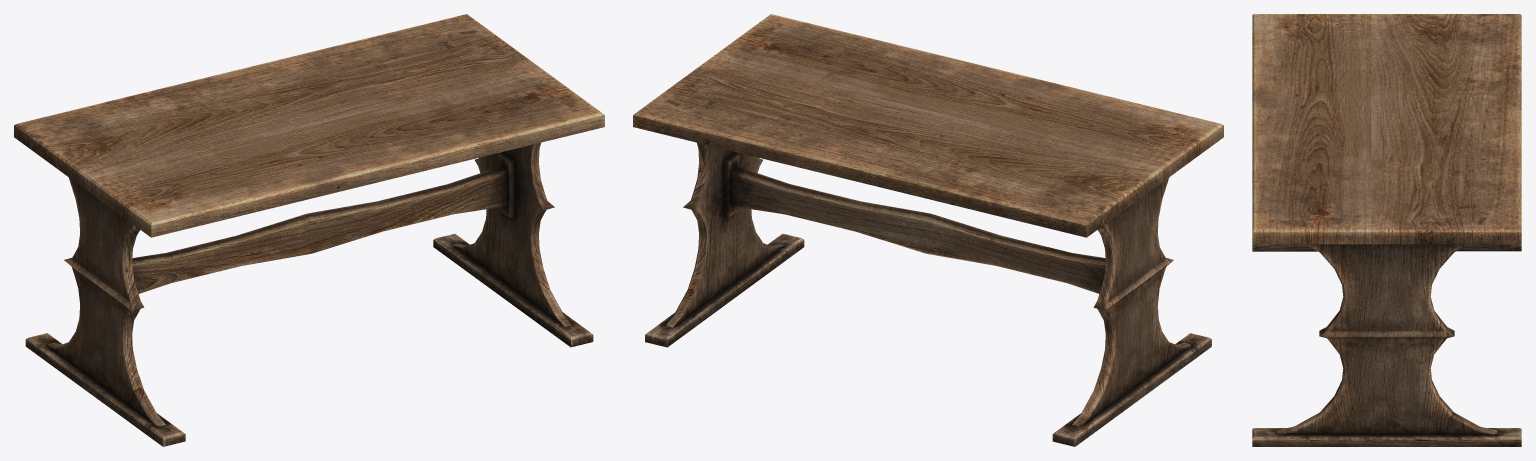
Rendered from table_wood02.dae.
The picture shows the model from 3 angles, left to right: view 1: azimuth 30°, elevation 25°; view 2: azimuth 150°, elevation 25°; view 3: azimuth 270°, elevation 25°; orthographic projection.
Visible parts, largest first — view 1: table_wood02_mesh; view 2: table_wood02_mesh; view 3: table_wood02_mesh.
Boxes of the visible parts, bbox=[...] form: table_wood02_mesh: bbox=[14, 14, 604, 446]; table_wood02_mesh: bbox=[633, 14, 1223, 446]; table_wood02_mesh: bbox=[1252, 14, 1521, 446].
Size of the model in its own units: 2.1 by 1 by 1.1.
